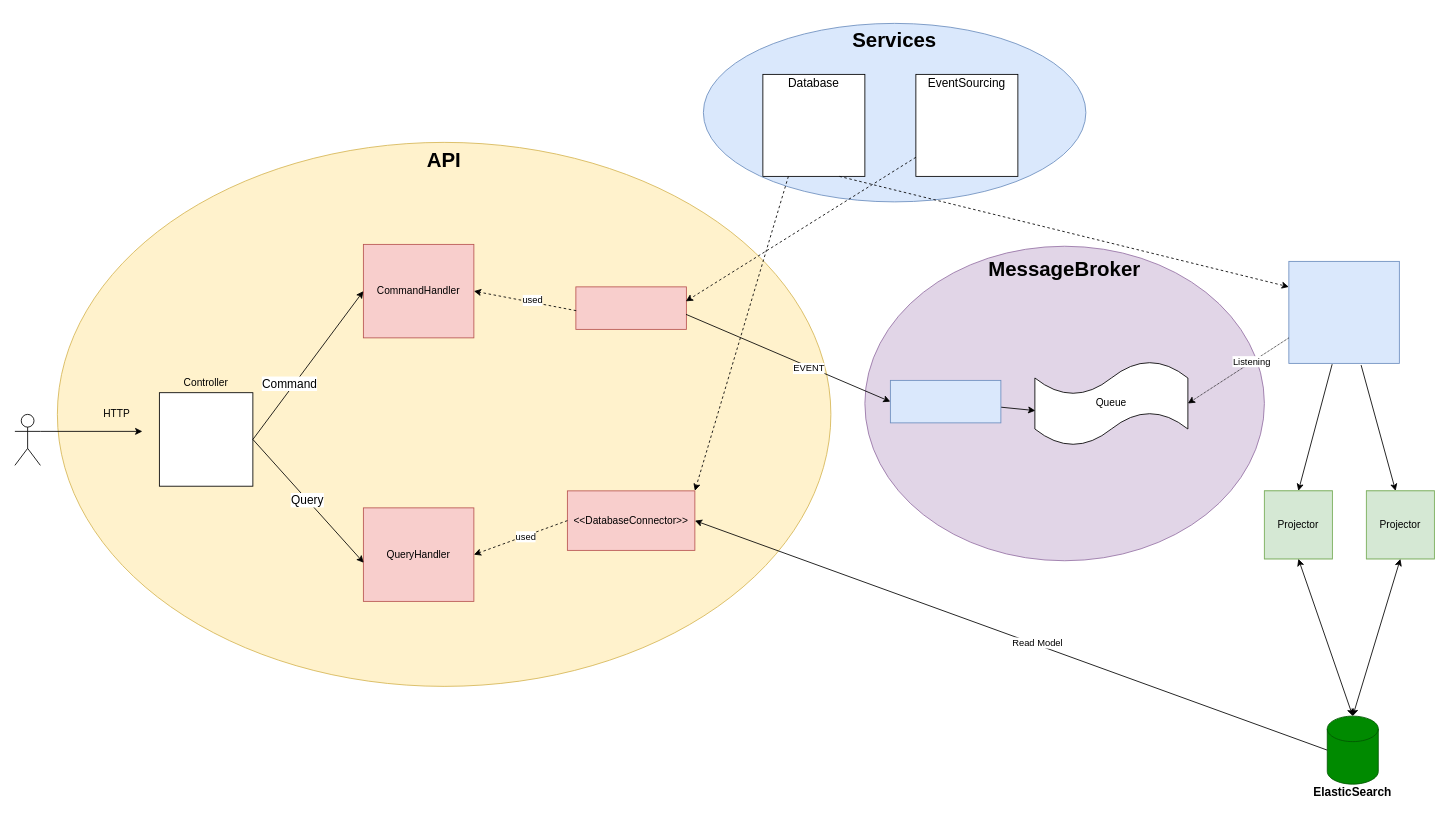
Some shapes in this 1449 by 816 pixel diagram are drawn without their labels. Each missing label, with the centre of its shape:
"<<MBConnector>>" goes at (630,307).
"Actor" goes at (27,439).
"Consumer" goes at (1343,312).
"Publisher" goes at (945,401).
